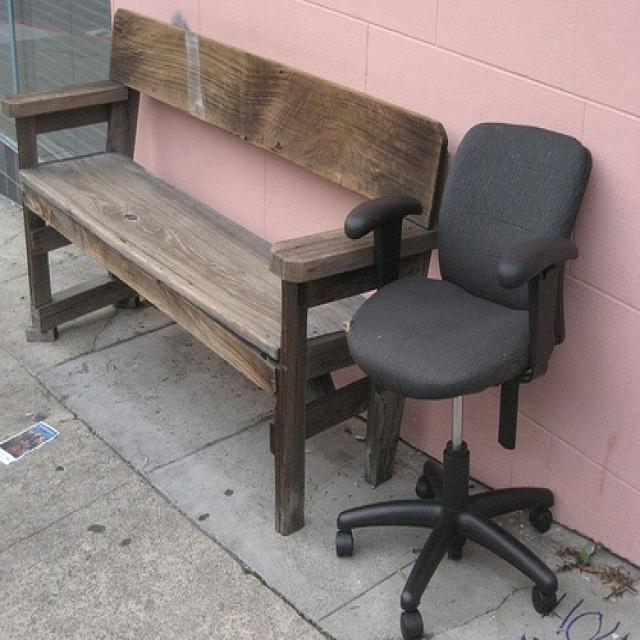chair: (330, 113, 602, 633)
